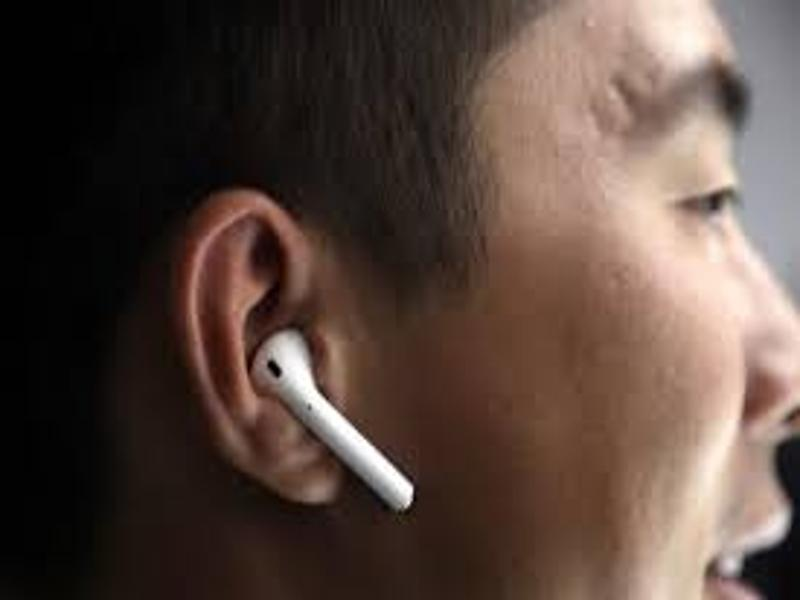headphone: (247, 326, 420, 509)
